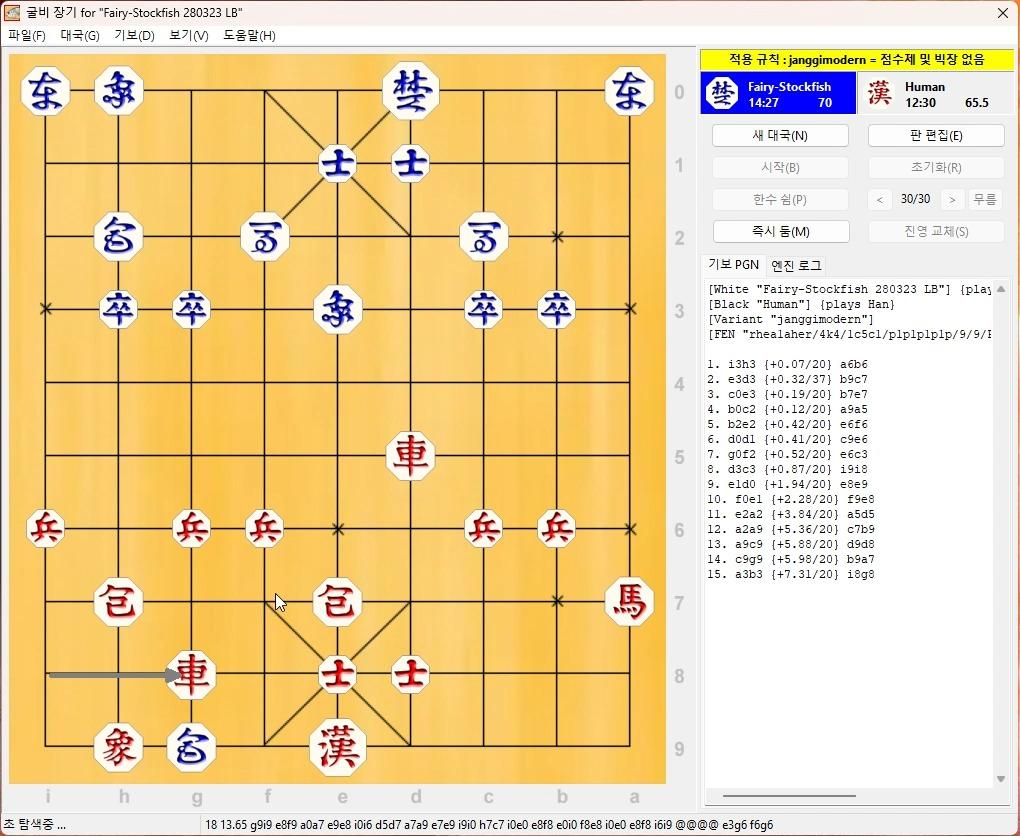cha_green: (605, 69, 655, 116), (21, 70, 69, 114)
cha_red: (166, 652, 217, 698), (389, 433, 438, 479)
jol_green: (466, 292, 505, 328), (171, 292, 210, 328), (98, 293, 137, 328), (539, 291, 578, 326)
jol_red: (537, 512, 579, 547), (465, 511, 503, 549), (24, 512, 65, 547), (172, 512, 213, 547), (243, 512, 283, 547)
ma_green: (239, 212, 289, 260), (460, 214, 509, 259)
ma_red: (603, 579, 654, 624)
po_green: (94, 214, 144, 262), (169, 723, 214, 771)
po_red: (94, 577, 144, 626), (315, 577, 363, 622)
sa_green: (317, 146, 358, 183), (390, 147, 430, 181)
sa_red: (319, 655, 359, 693), (392, 657, 431, 692)
sang_green: (94, 68, 144, 114), (315, 288, 364, 332)
sang_red: (91, 724, 143, 769)
wang_green: (382, 64, 439, 118)
wang_red: (309, 722, 368, 773)
